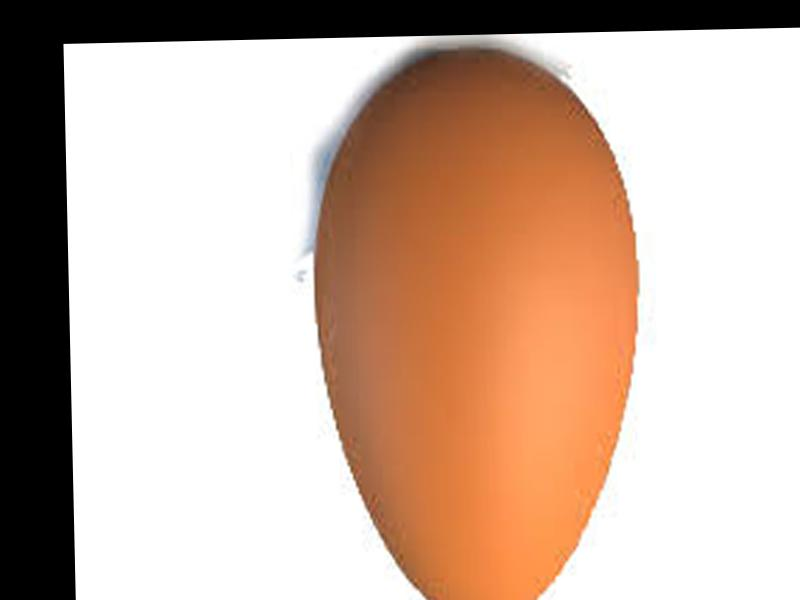Eggs: (311, 45, 646, 600)
